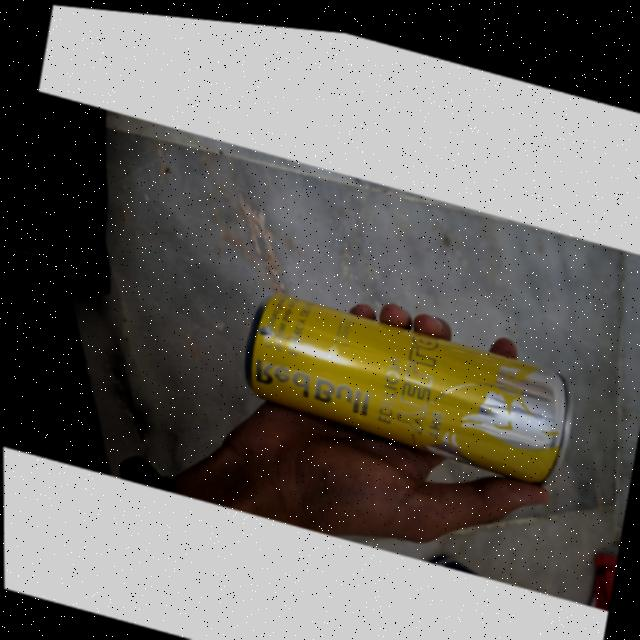Redbull Yellow Edition: (234, 266, 589, 492)
